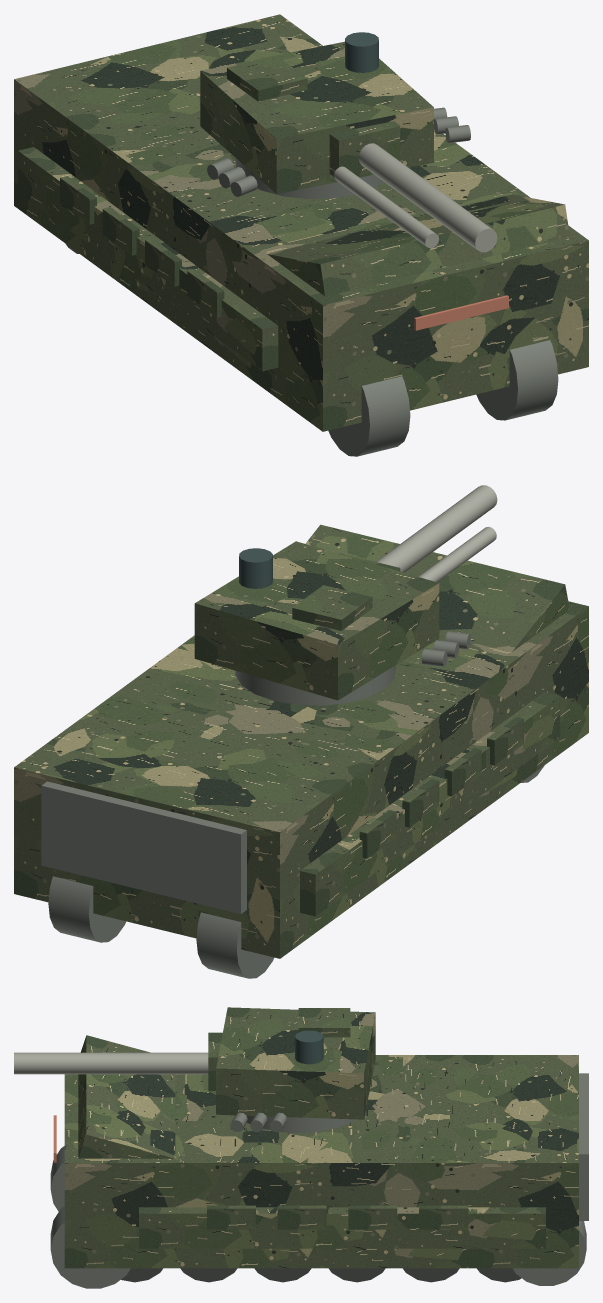
File: bmp-3.glb
3 renders of one model, top to bottom at view 1: azimuth 30°, elevation 25°; view 2: azimuth 150°, elevation 25°; view 3: azimuth 270°, elevation 25°, orthographic. The views are drawn at different scales.
Parts seen in each view (by area): view 1: Armored hull, BMP-3 low turret, Sloped front armor, Side skirt, Drive sprocket (×2), Side reactive armor tile (×4), 100 mm low-pressure cannon, Turret roof hatch, 100 mm gun mantlet, 30 mm autocannon, Faction identification plate, Commander sight (+1 smaller); view 2: Armored hull, BMP-3 low turret, Rear troop ramp, Sloped front armor, Side skirt, Idler wheel (×2), Side reactive armor tile (×4), 100 mm low-pressure cannon, Turret roof hatch, Turret race, 30 mm autocannon, Commander sight; view 3: Armored hull, BMP-3 low turret, Side skirt, Sloped front armor, Side reactive armor tile (×4), 100 mm low-pressure cannon, Road wheel / replaceable (×6), Drive sprocket (×2), Rear troop ramp, Turret roof hatch, Idler wheel, Turret race (+2 smaller).
Boxes of the visible parts, x1,y1,x2,y2 form: Armored hull: (14, 14, 588, 431); BMP-3 low turret: (200, 41, 433, 193); Sloped front armor: (267, 194, 569, 296); Side skirt: (18, 147, 278, 371); Drive sprocket (×2): (328, 340, 558, 456); Side reactive armor tile (×4): (60, 176, 224, 317); 100 mm low-pressure cannon: (358, 143, 497, 252); Turret roof hatch: (227, 55, 307, 101); 100 mm gun mantlet: (329, 121, 400, 176); 30 mm autocannon: (334, 166, 438, 248); Faction identification plate: (414, 295, 508, 330); Commander sight: (345, 32, 378, 72); Armored hull: (14, 601, 588, 958); BMP-3 low turret: (194, 541, 439, 700); Rear troop ramp: (41, 781, 246, 913); Sloped front armor: (305, 524, 569, 652); Side skirt: (300, 692, 560, 916); Idler wheel (×2): (48, 876, 273, 978); Side reactive armor tile (×4): (359, 717, 523, 858); 100 mm low-pressure cannon: (376, 485, 497, 572); Turret roof hatch: (292, 585, 372, 630); Turret race: (235, 665, 395, 705); 30 mm autocannon: (418, 526, 496, 582); Commander sight: (239, 548, 272, 588); Armored hull: (64, 1055, 578, 1268); BMP-3 low turret: (216, 1007, 375, 1119); Side skirt: (139, 1207, 545, 1248); Sloped front armor: (78, 1035, 175, 1158); Side reactive armor tile (×4): (207, 1205, 468, 1229); 100 mm low-pressure cannon: (14, 1052, 208, 1074); Road wheel / replaceable (×6): (121, 1268, 521, 1282); Drive sprocket (×2): (50, 1146, 130, 1288); Rear troop ramp: (579, 1073, 588, 1220); Turret roof hatch: (298, 1008, 350, 1037); Idler wheel: (512, 1221, 586, 1285); Turret race: (246, 1115, 354, 1133).
Size of the model in its own units: 3.3 by 2.9 by 6.43.
Materials: 6 (1 with a texture image).
